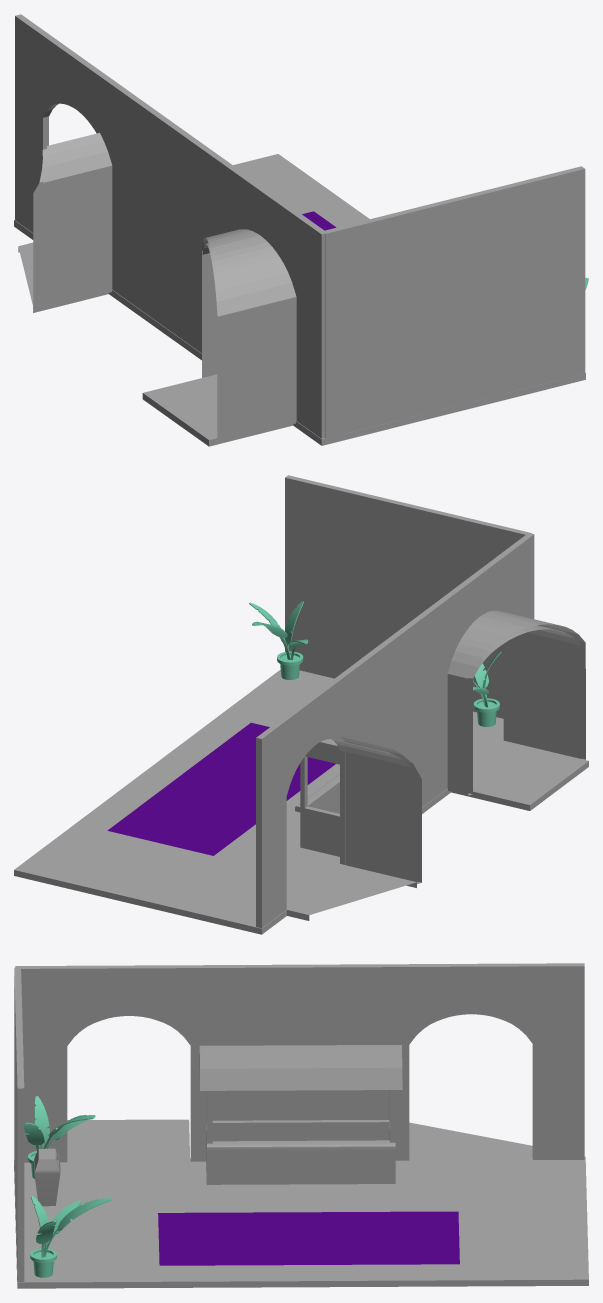
The model's file is Test_ArcadeEntrance 4.fbx.
The picture shows the model from 3 angles, top to bottom: view 1: azimuth 30°, elevation 25°; view 2: azimuth 150°, elevation 25°; view 3: azimuth 270°, elevation 25°; orthographic projection. The views are drawn at different scales.
Parts seen in each view (by area): view 1: pCube3, polySurface8, polySurface10, polySurface9, polySurface3; view 2: polySurface3, polySurface8, pCube3, polySurface10, Rug_bitchasklfjf_v, polySurface9, polySurface1, Big_plant1, Big_plant; view 3: polySurface8, polySurface3, polySurface1, Rug_bitchasklfjf_v, pCube3, Big_plant1, Big_plant, pCube17.
Part boxes in pixels (x1,y1,x2,y2): pCube3: (322,166,585,438); polySurface8: (15,14,327,438); polySurface10: (202,229,296,442); polySurface9: (33,133,112,311); polySurface3: (14,154,585,446); polySurface3: (14,669,588,934); polySurface8: (256,533,534,928); pCube3: (285,475,531,718); polySurface10: (447,610,585,795); Rug_bitchasklfjf_v: (107,722,335,855); polySurface9: (336,735,421,883); polySurface1: (295,739,339,856); Big_plant1: (249,601,308,679); Big_plant: (473,652,501,726); polySurface8: (15,963,584,1162); polySurface3: (14,1119,588,1288); polySurface1: (199,1045,402,1184); Rug_bitchasklfjf_v: (158,1211,459,1265); pCube3: (14,967,24,1282); Big_plant1: (30,1196,111,1277); Big_plant: (24,1096,95,1178); pCube17: (34,1148,60,1206).
Size of the model in its own units: 940 by 505 by 1318.
